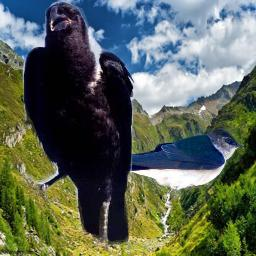Crow: (21, 0, 136, 252)
Swallow: (95, 128, 245, 202)
